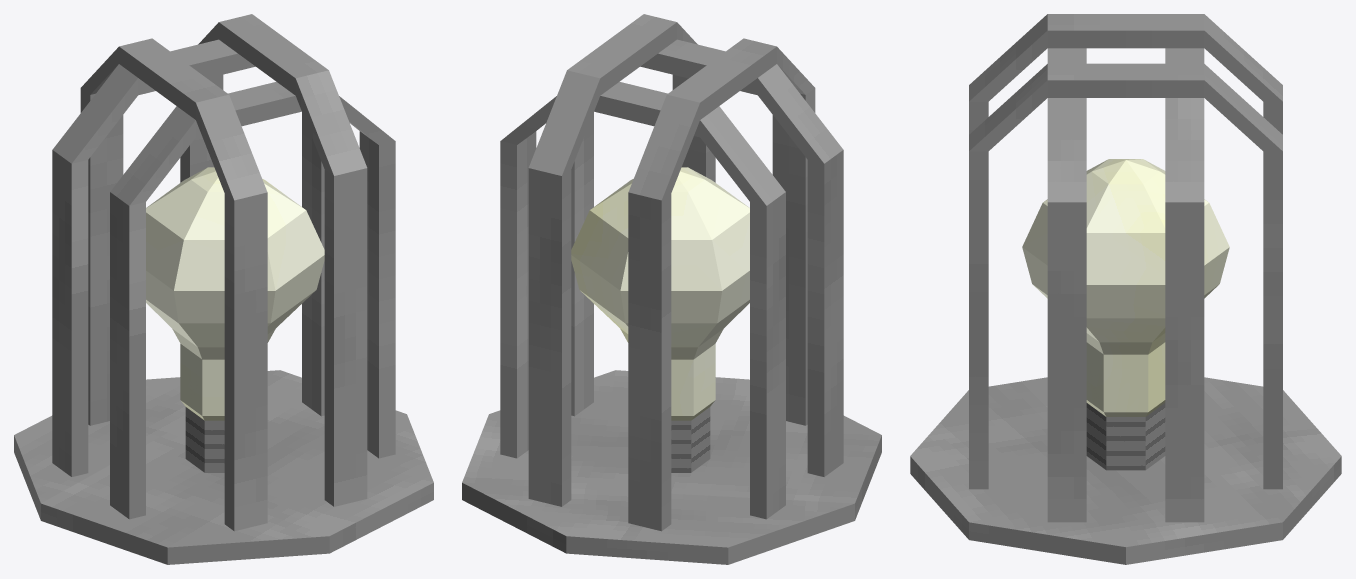
Rendered from mine_lantern.fbx.
The picture shows the model from 3 angles, left to right: view 1: azimuth 30°, elevation 25°; view 2: azimuth 150°, elevation 25°; view 3: azimuth 270°, elevation 25°; orthographic projection. The views are drawn at different scales.
Parts seen in each view (by area): view 1: Cube; view 2: Cube; view 3: Cube.
Part boxes in pixels (x1,y1,x2,y2): Cube: (14, 14, 433, 564); Cube: (462, 14, 881, 564); Cube: (910, 14, 1341, 564).
Bounding box in the file's own units: 0.22 × 0.24 × 0.22.
